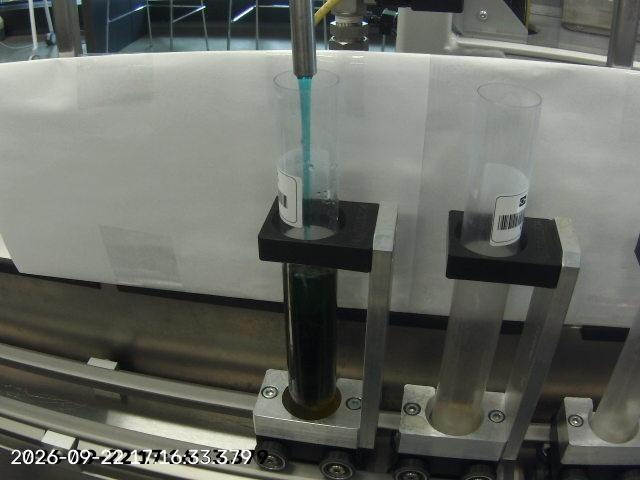vial: (425, 80, 546, 433), (270, 67, 341, 423)
